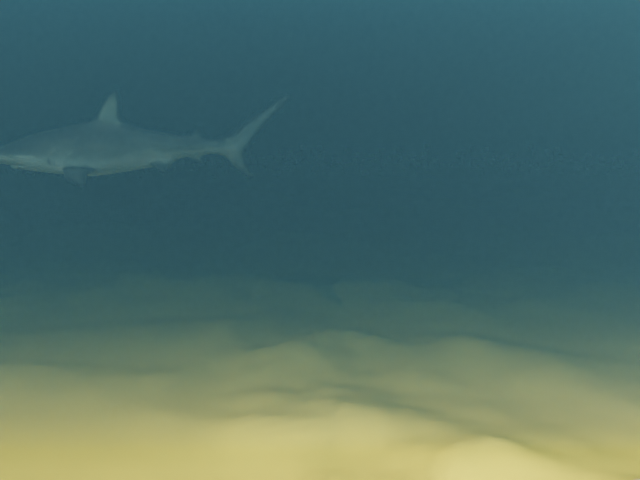Carribean Shark.001: (0, 91, 289, 186)
